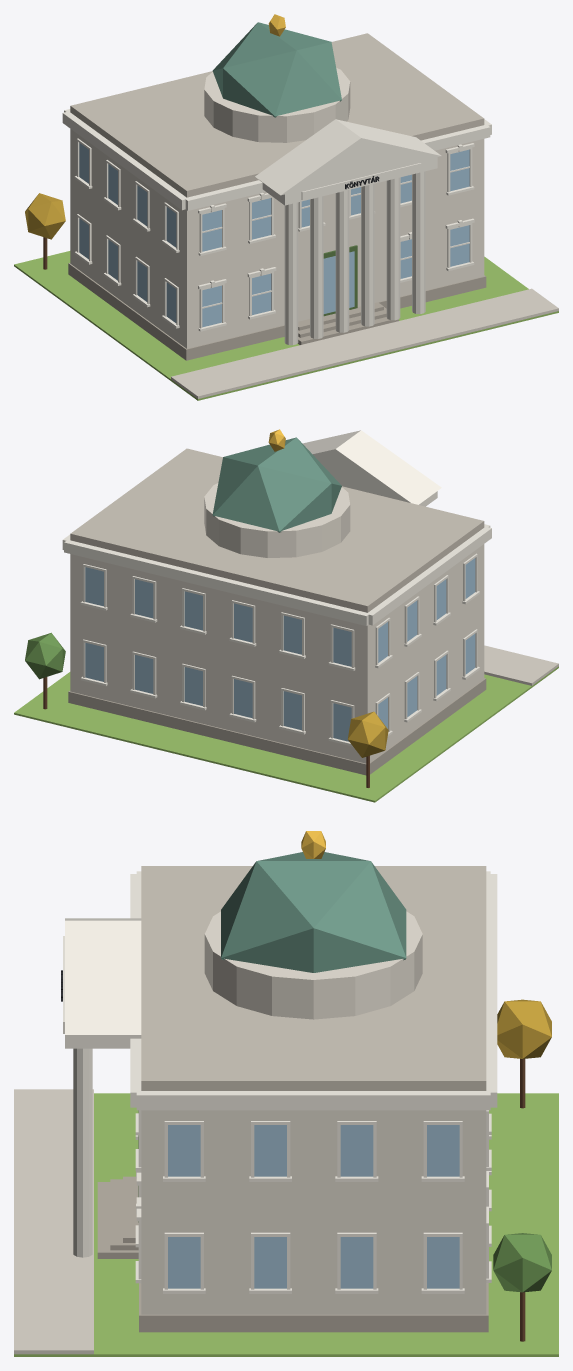
Rendered from Kamu_kutuphane_1_Hafif.fbx.
3 views of the same model, one above another, from view 1: azimuth 30°, elevation 25°; view 2: azimuth 150°, elevation 25°; view 3: azimuth 270°, elevation 25° (orthographic). The views are drawn at different scales.
Parts seen in each view (by area): view 1: Kamu_kutuphane_1_Hafif; view 2: Kamu_kutuphane_1_Hafif; view 3: Kamu_kutuphane_1_Hafif.
Part boxes in pixels (bbox=[...]): Kamu_kutuphane_1_Hafif: bbox=[14, 14, 558, 400]; Kamu_kutuphane_1_Hafif: bbox=[14, 429, 558, 802]; Kamu_kutuphane_1_Hafif: bbox=[14, 831, 558, 1356].
Bounding box in the file's own units: 17 × 12.01 × 15.
